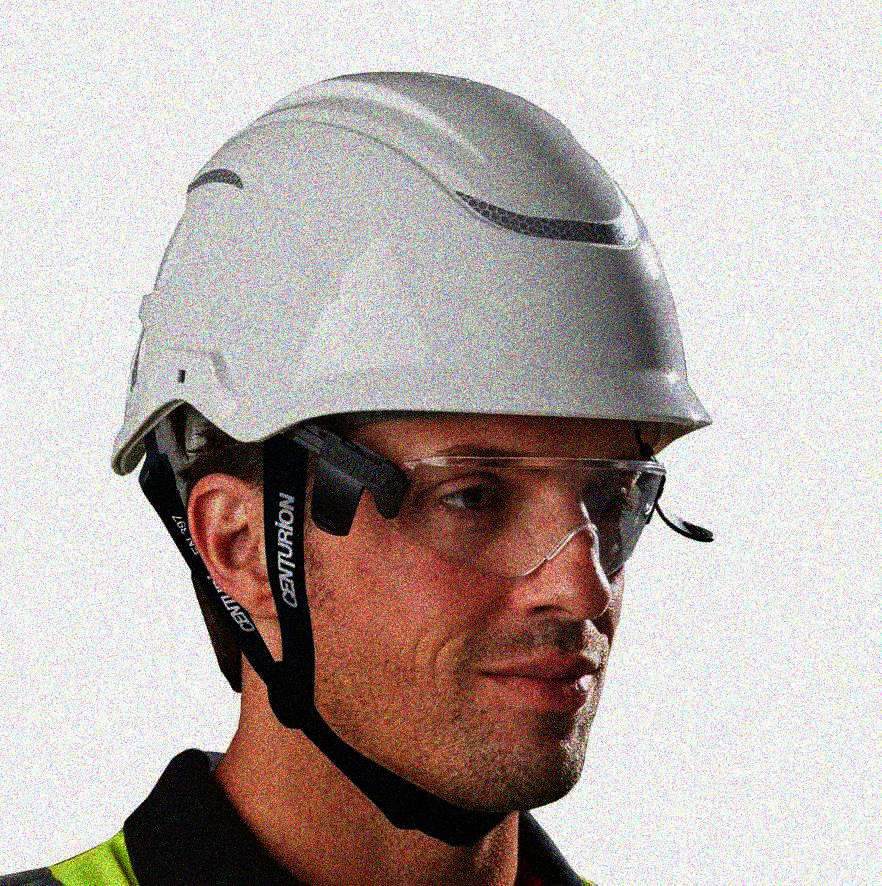helmet: (113, 71, 715, 833)
